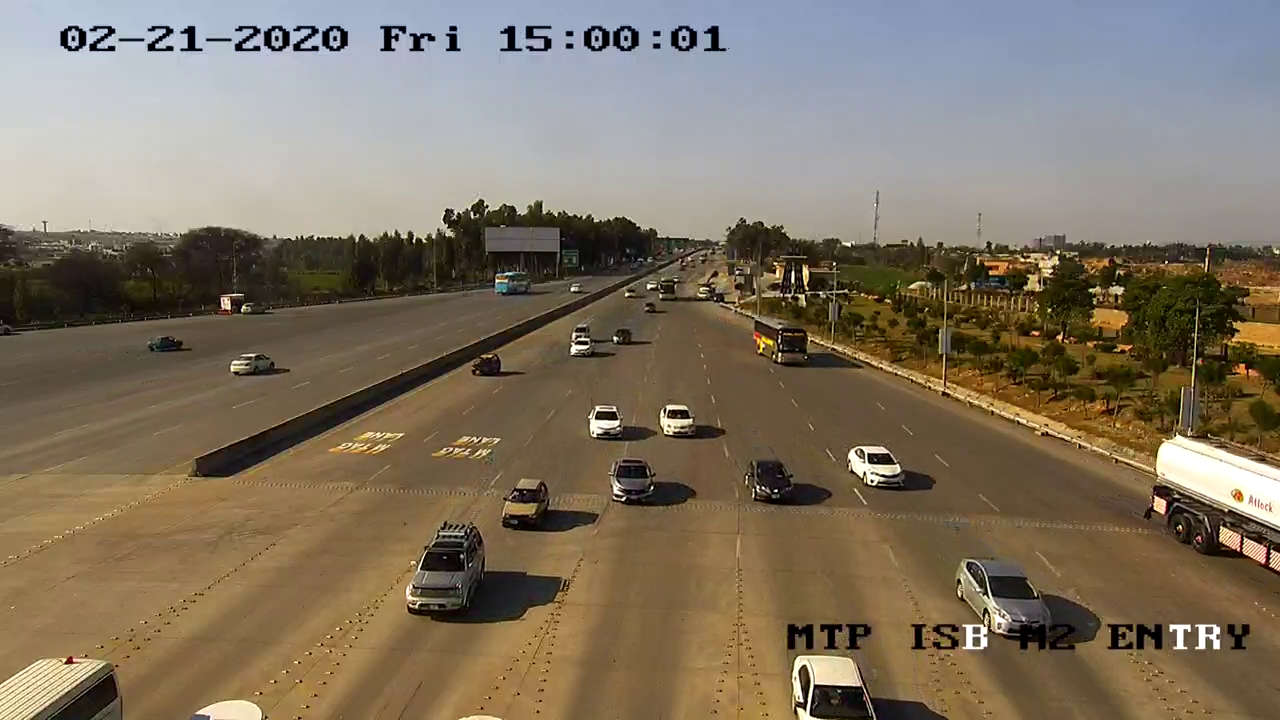f1: (401, 517, 489, 622), (778, 646, 885, 720), (837, 438, 914, 498), (494, 466, 557, 533), (732, 454, 797, 510), (603, 455, 662, 504), (580, 400, 629, 447), (655, 399, 698, 445)
